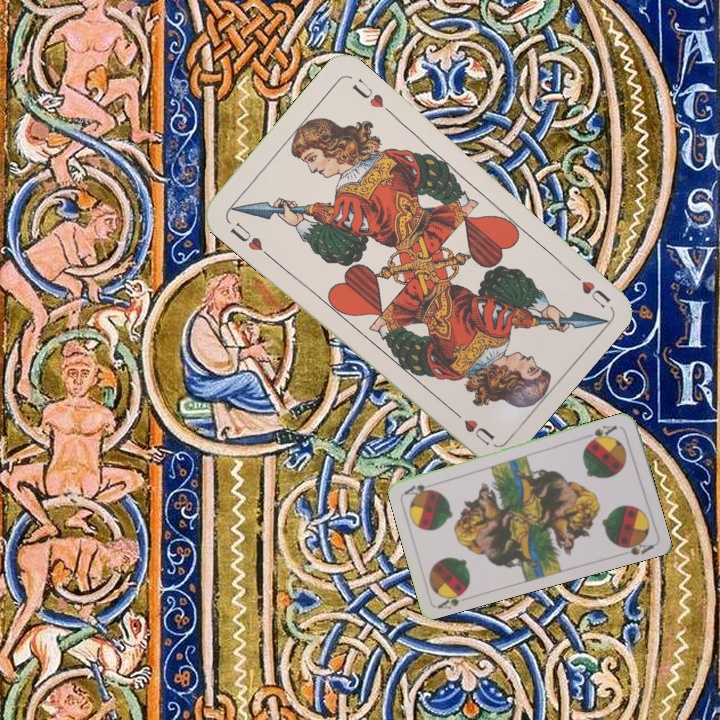HU: (563, 265, 613, 310), (226, 218, 273, 260)
SA: (434, 585, 471, 611), (582, 421, 620, 446)
